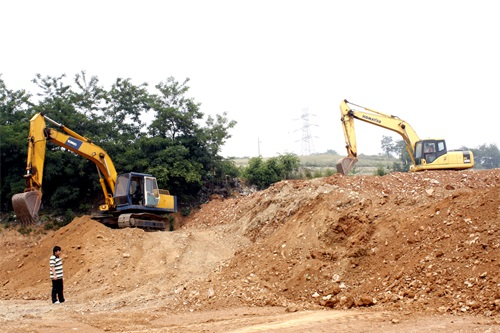excavator: (11, 111, 184, 232), (334, 94, 483, 178)
